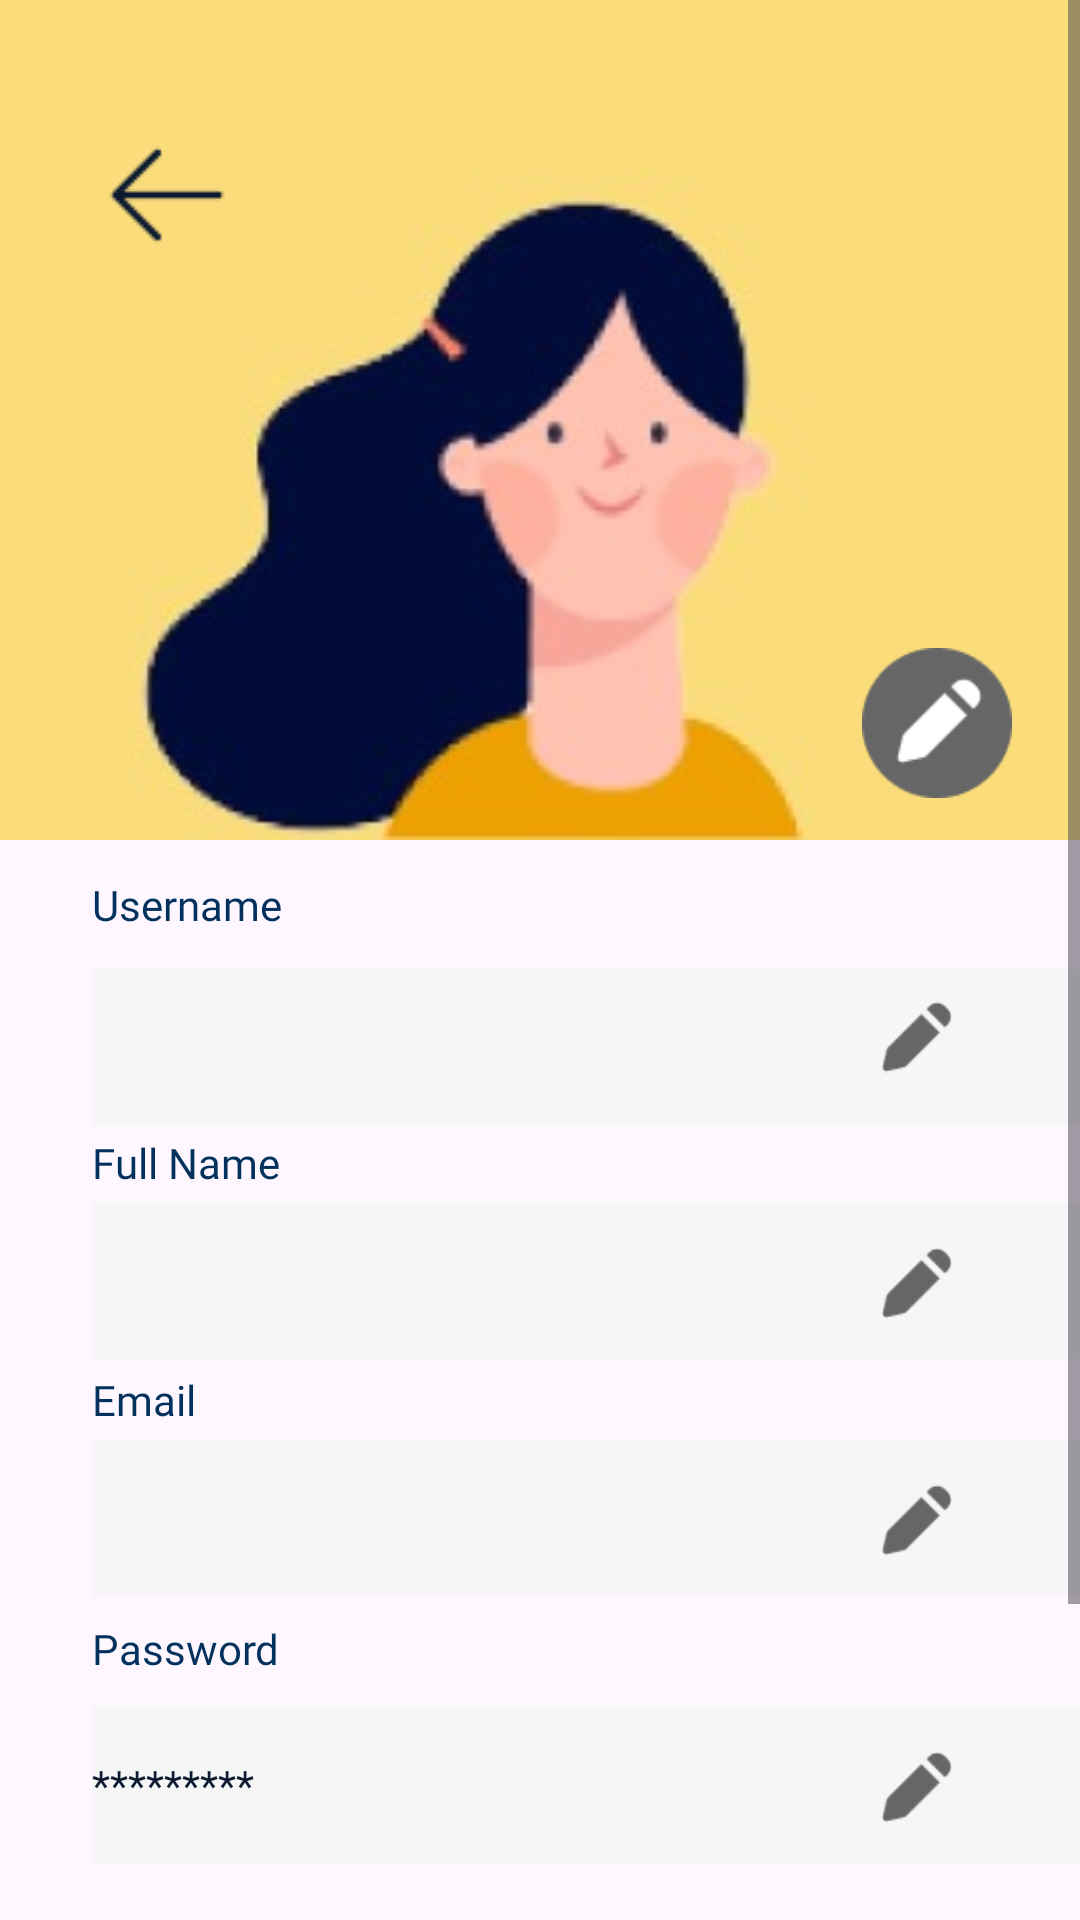

Icons on this 1080*1920 Android screen, each with the point to tap as (x,y):
profile setting edit: (937,723), (917,1037), (917,1283), (917,1520), (917,1787)
